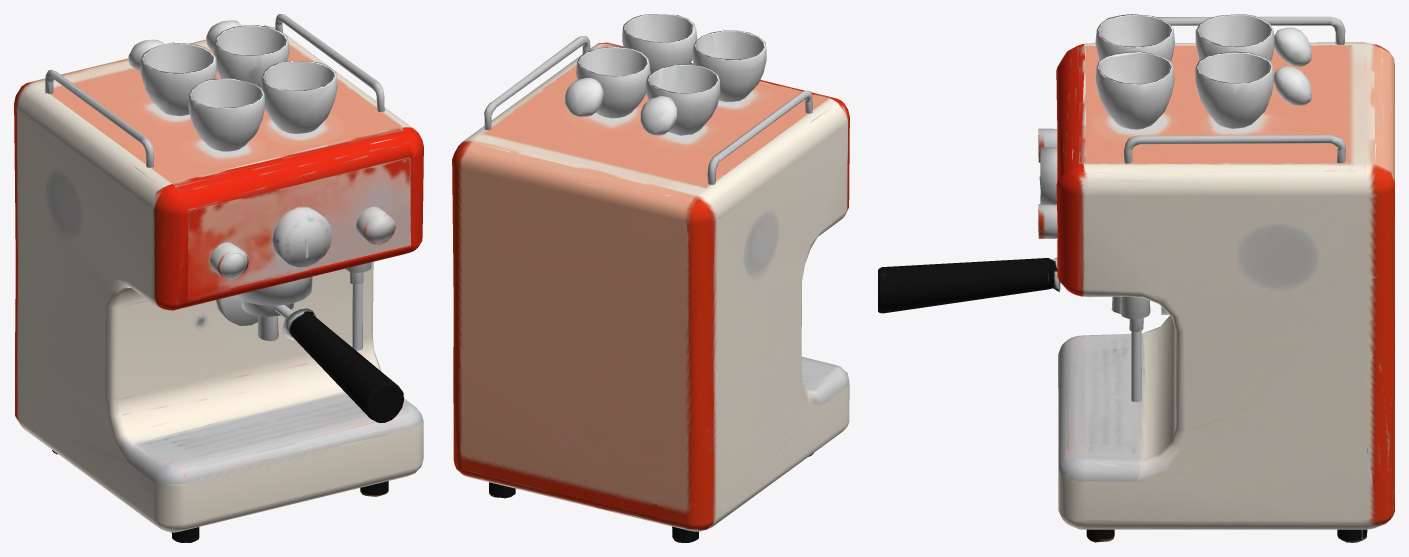
The model's file is prop_kitchen_coffee_machine.glb.
The picture shows the model from 3 angles, left to right: view 1: azimuth 30°, elevation 25°; view 2: azimuth 150°, elevation 25°; view 3: azimuth 270°, elevation 25°; orthographic projection. The views are drawn at different scales.
Size of the model in its own units: 0.6318 by 0.9395 by 1.
1 material, 1 textured.
